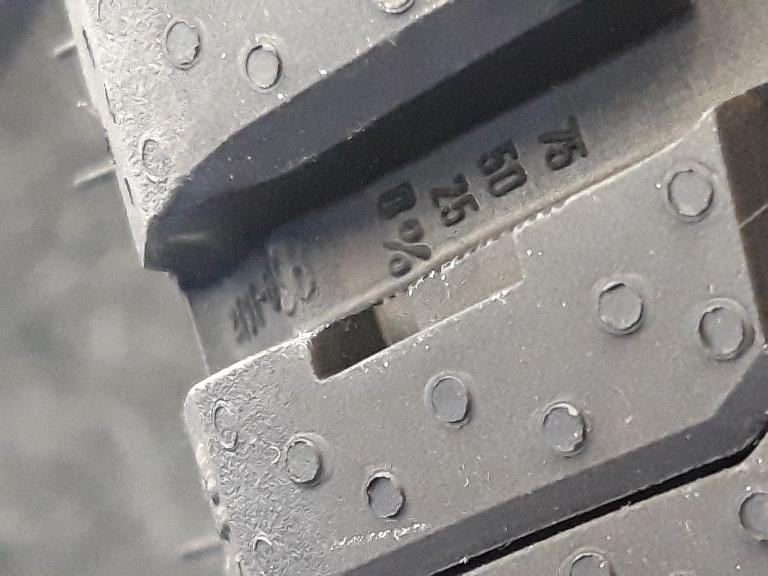temoin:100: (300, 204, 564, 388)
